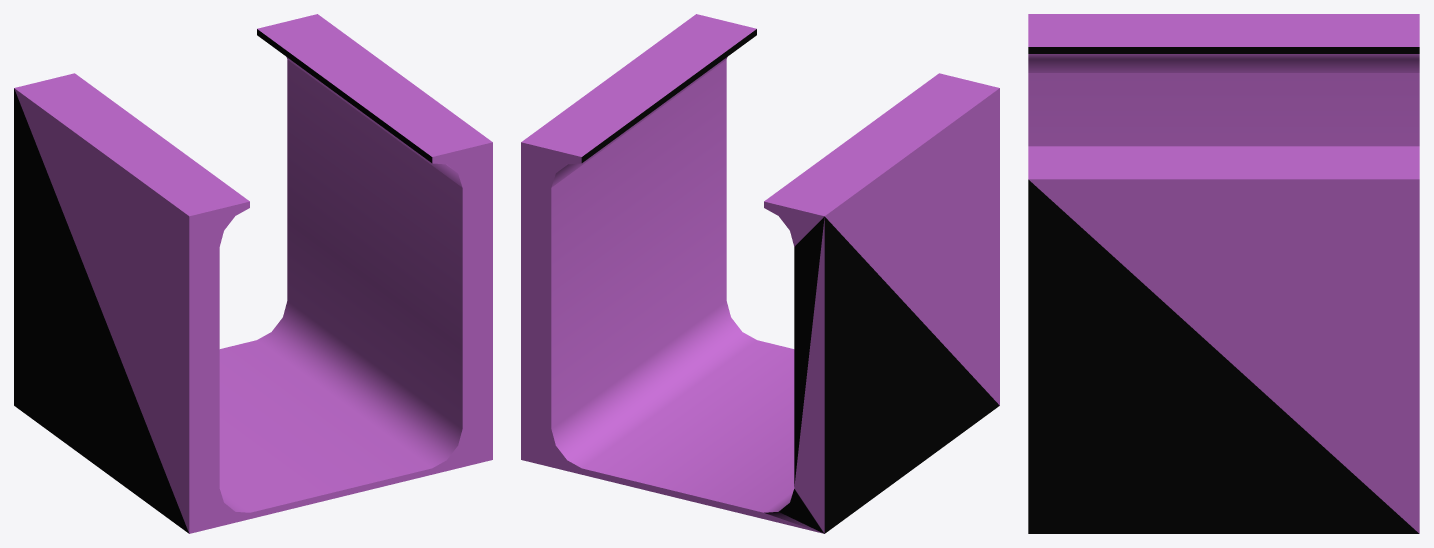
Rendered from Tileset_17.fbx.
3 renders of one model, left to right at view 1: azimuth 30°, elevation 25°; view 2: azimuth 150°, elevation 25°; view 3: azimuth 270°, elevation 25°, orthographic. The views are drawn at different scales.
Parts seen in each view (by area): view 1: Tileset_17; view 2: Tileset_17; view 3: Tileset_17.
Boxes of the visible parts, box(x1,y1,x2,y2) form: Tileset_17: box(14, 14, 492, 533); Tileset_17: box(521, 14, 999, 533); Tileset_17: box(1028, 14, 1419, 533).
Size of the model in its own units: 100 by 100 by 100.
